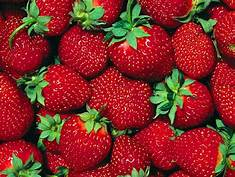Fresa: (106, 19, 178, 85), (57, 111, 115, 174), (159, 76, 221, 133), (57, 20, 112, 79), (168, 124, 228, 177), (34, 61, 94, 113), (172, 18, 220, 83), (209, 56, 235, 131), (109, 132, 152, 177), (1, 137, 46, 177), (26, 1, 73, 37), (74, 1, 130, 31)
